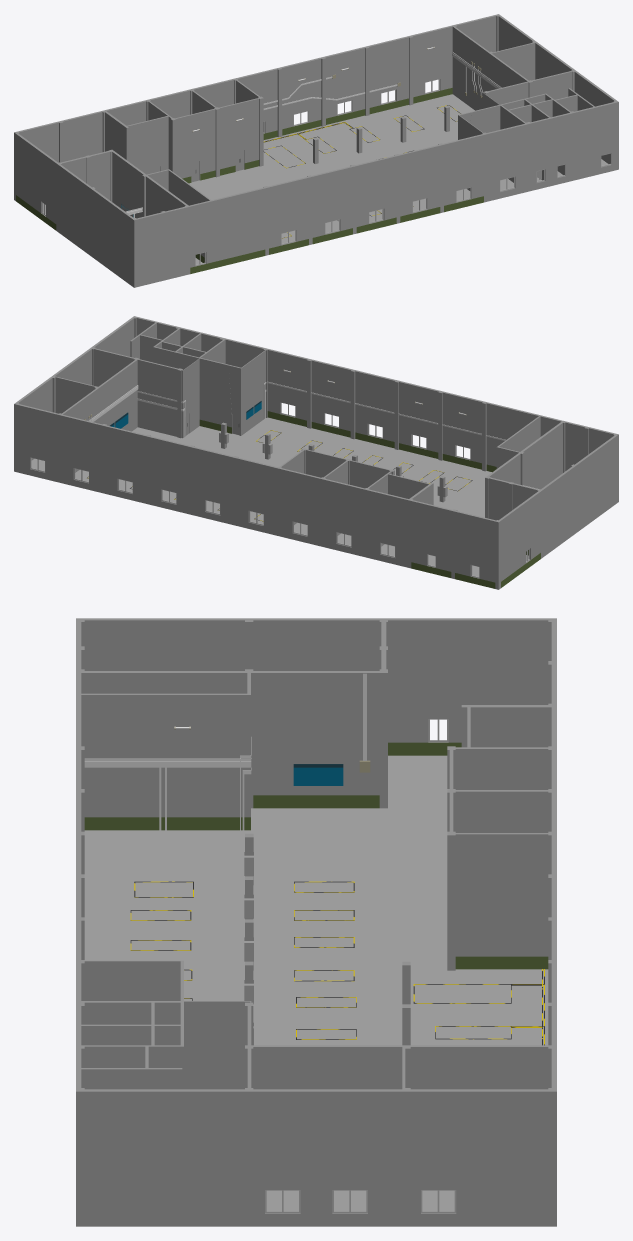
The model's file is shiyanlou_A02.fbx.
3 views of the same model, one above another, from view 1: azimuth 30°, elevation 25°; view 2: azimuth 150°, elevation 25°; view 3: azimuth 270°, elevation 25° (orthographic). The views are drawn at different scales.
Parts seen in each view (by area): view 1: shiyanlou_A02; view 2: shiyanlou_A02; view 3: shiyanlou_A02.
Part boxes in pixels (x1,y1,x2,y2): shiyanlou_A02: [14, 14, 618, 287]; shiyanlou_A02: [14, 316, 618, 589]; shiyanlou_A02: [76, 618, 556, 1226].
Bounding box in the file's own units: 3591 × 491 × 1542.
